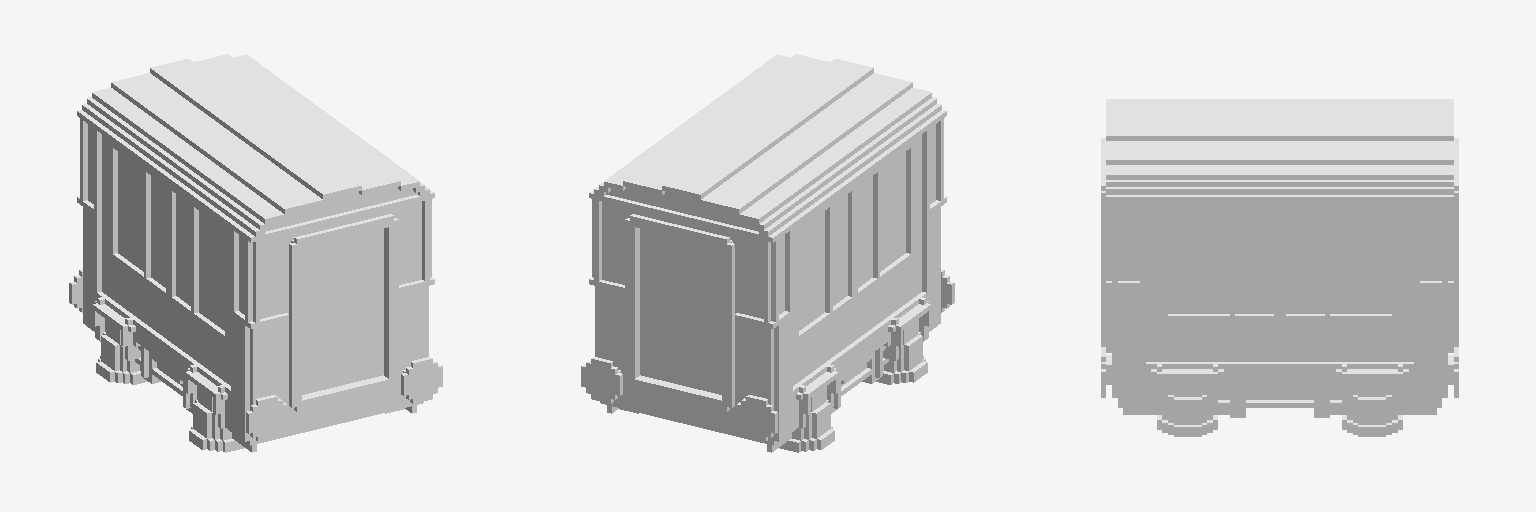
The model's file is Train-3.obj.
The picture shows the model from 3 angles: view 1: azimuth 30°, elevation 25°; view 2: azimuth 150°, elevation 25°; view 3: azimuth 270°, elevation 25°; orthographic projection.
Visible parts, largest first — view 1: object 1; view 2: object 1; view 3: object 1.
Part boxes in pixels (bbox=[...]): object 1: bbox=[69, 54, 442, 452]; object 1: bbox=[581, 54, 954, 452]; object 1: bbox=[1101, 99, 1458, 436].
Size of the model in its own units: 4.4 by 5.1 by 6.4.